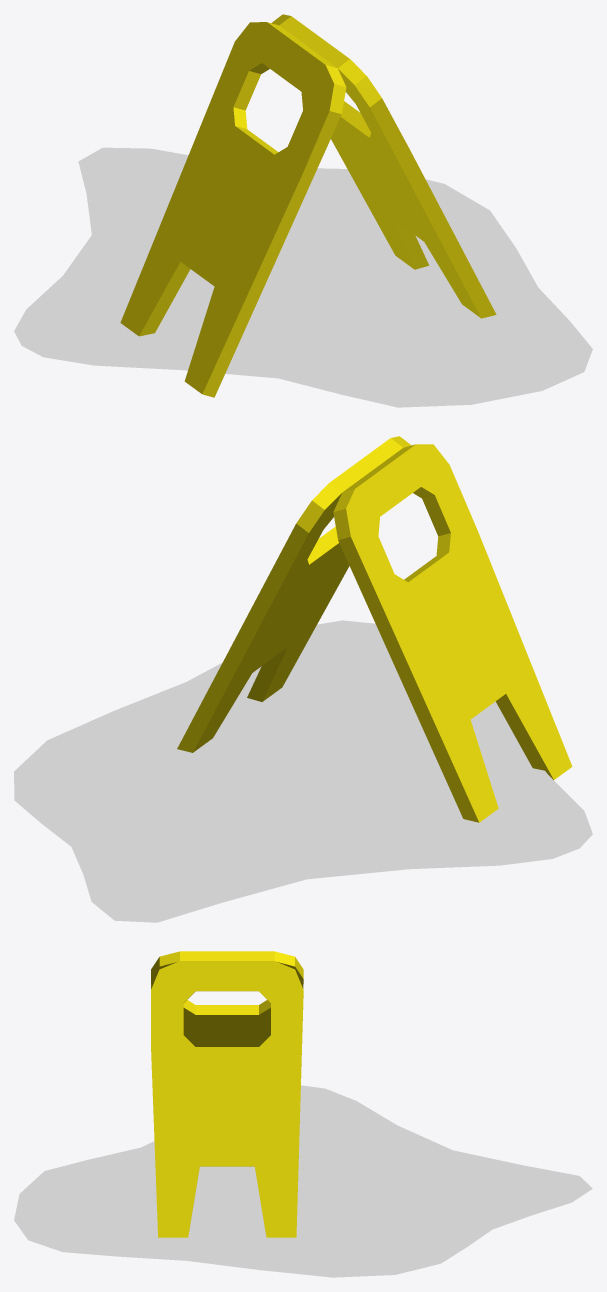
Rendered from 2_CleaningSign.fbx.
The picture shows the model from 3 angles, top to bottom: view 1: azimuth 30°, elevation 25°; view 2: azimuth 150°, elevation 25°; view 3: azimuth 270°, elevation 25°; orthographic projection. The views are drawn at different scales.
Parts seen in each view (by area): view 1: Plane.004, Plane.002; view 2: Plane.004, Plane.002; view 3: Plane.004, Plane.002.
Part boxes in pixels (bbox=[...]): Plane.004: bbox=[14, 147, 592, 407]; Plane.002: bbox=[120, 14, 496, 397]; Plane.004: bbox=[14, 620, 592, 922]; Plane.002: bbox=[177, 436, 572, 822]; Plane.004: bbox=[14, 1085, 592, 1277]; Plane.002: bbox=[151, 951, 303, 1237].
Size of the model in its own units: 227 by 179 by 102.
